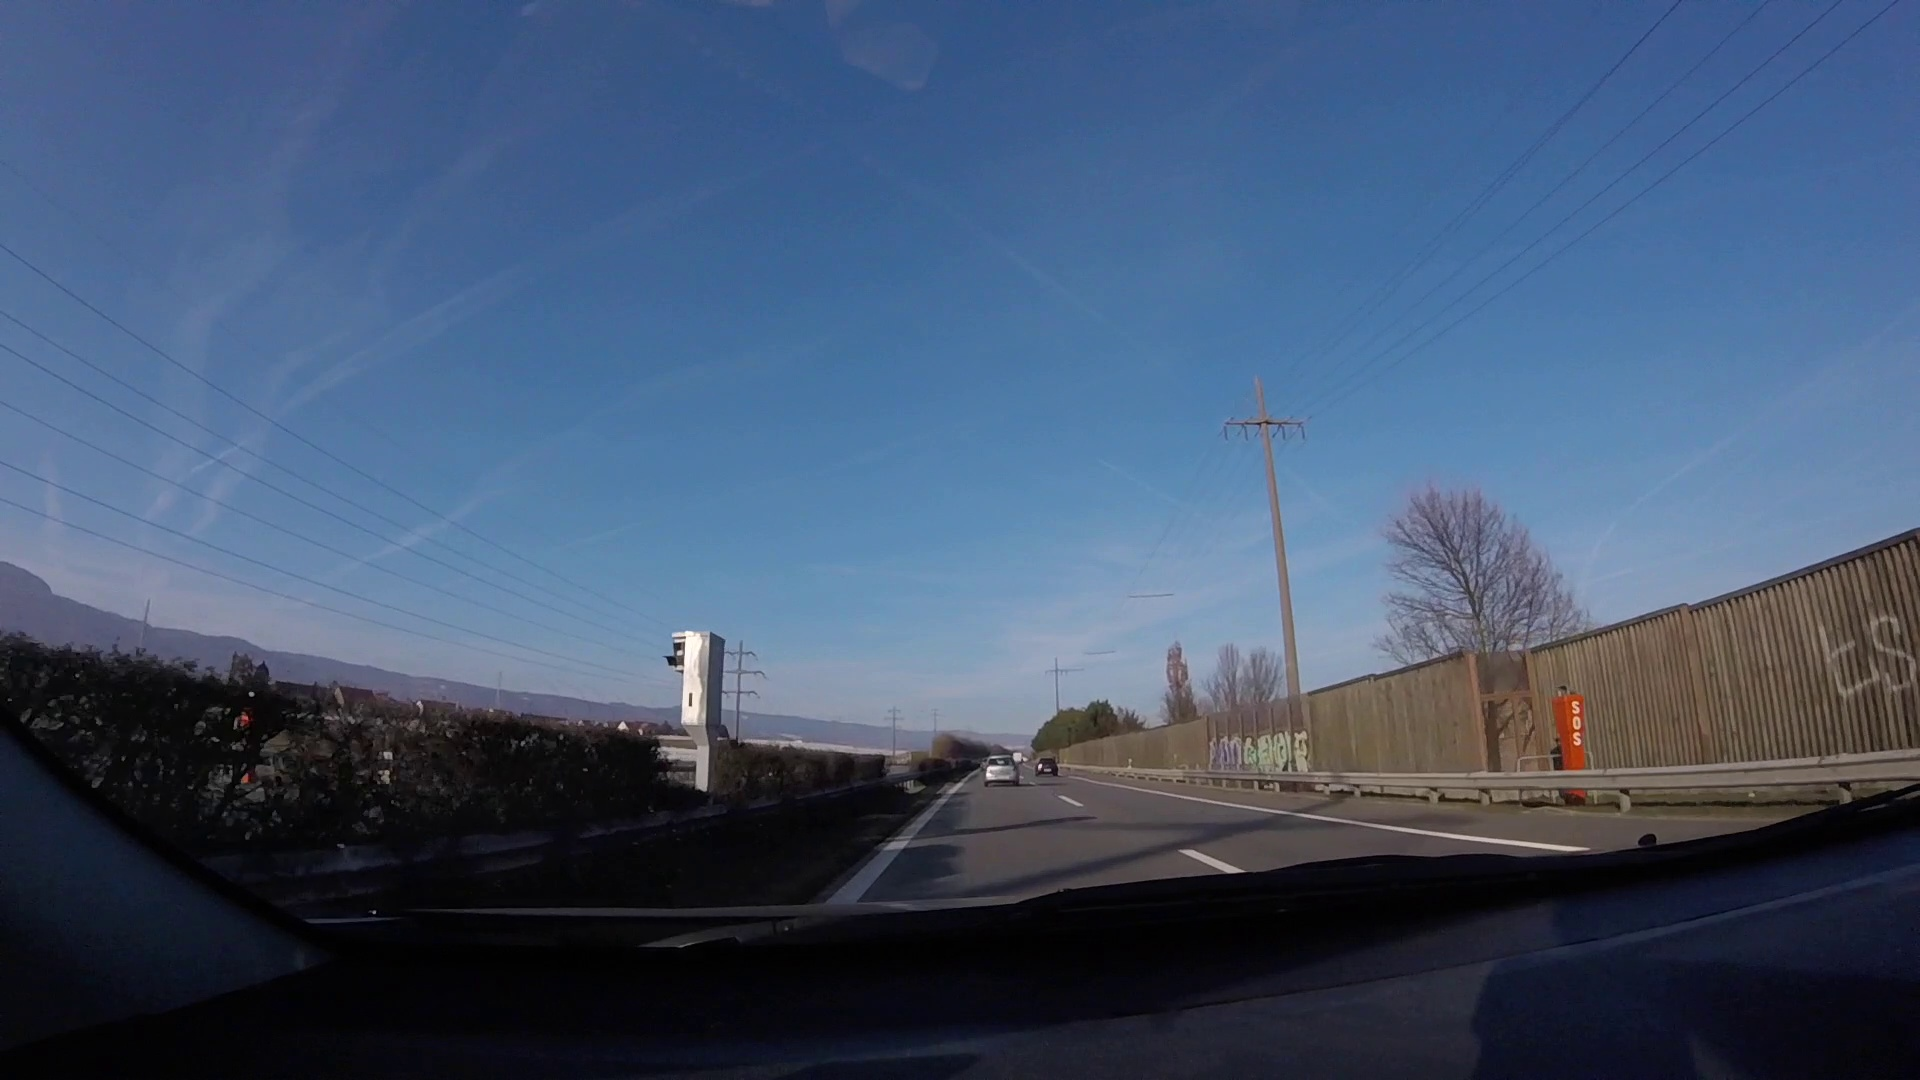radar: (665, 629, 728, 798)
